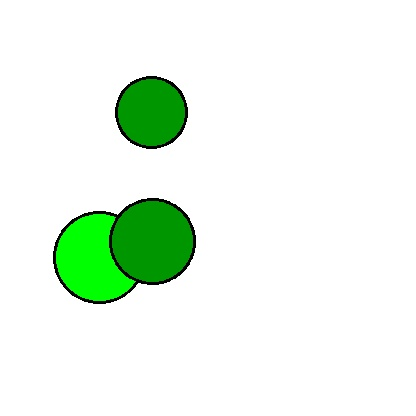circle: (54, 206, 144, 309), (93, 77, 210, 147), (110, 196, 195, 286)
